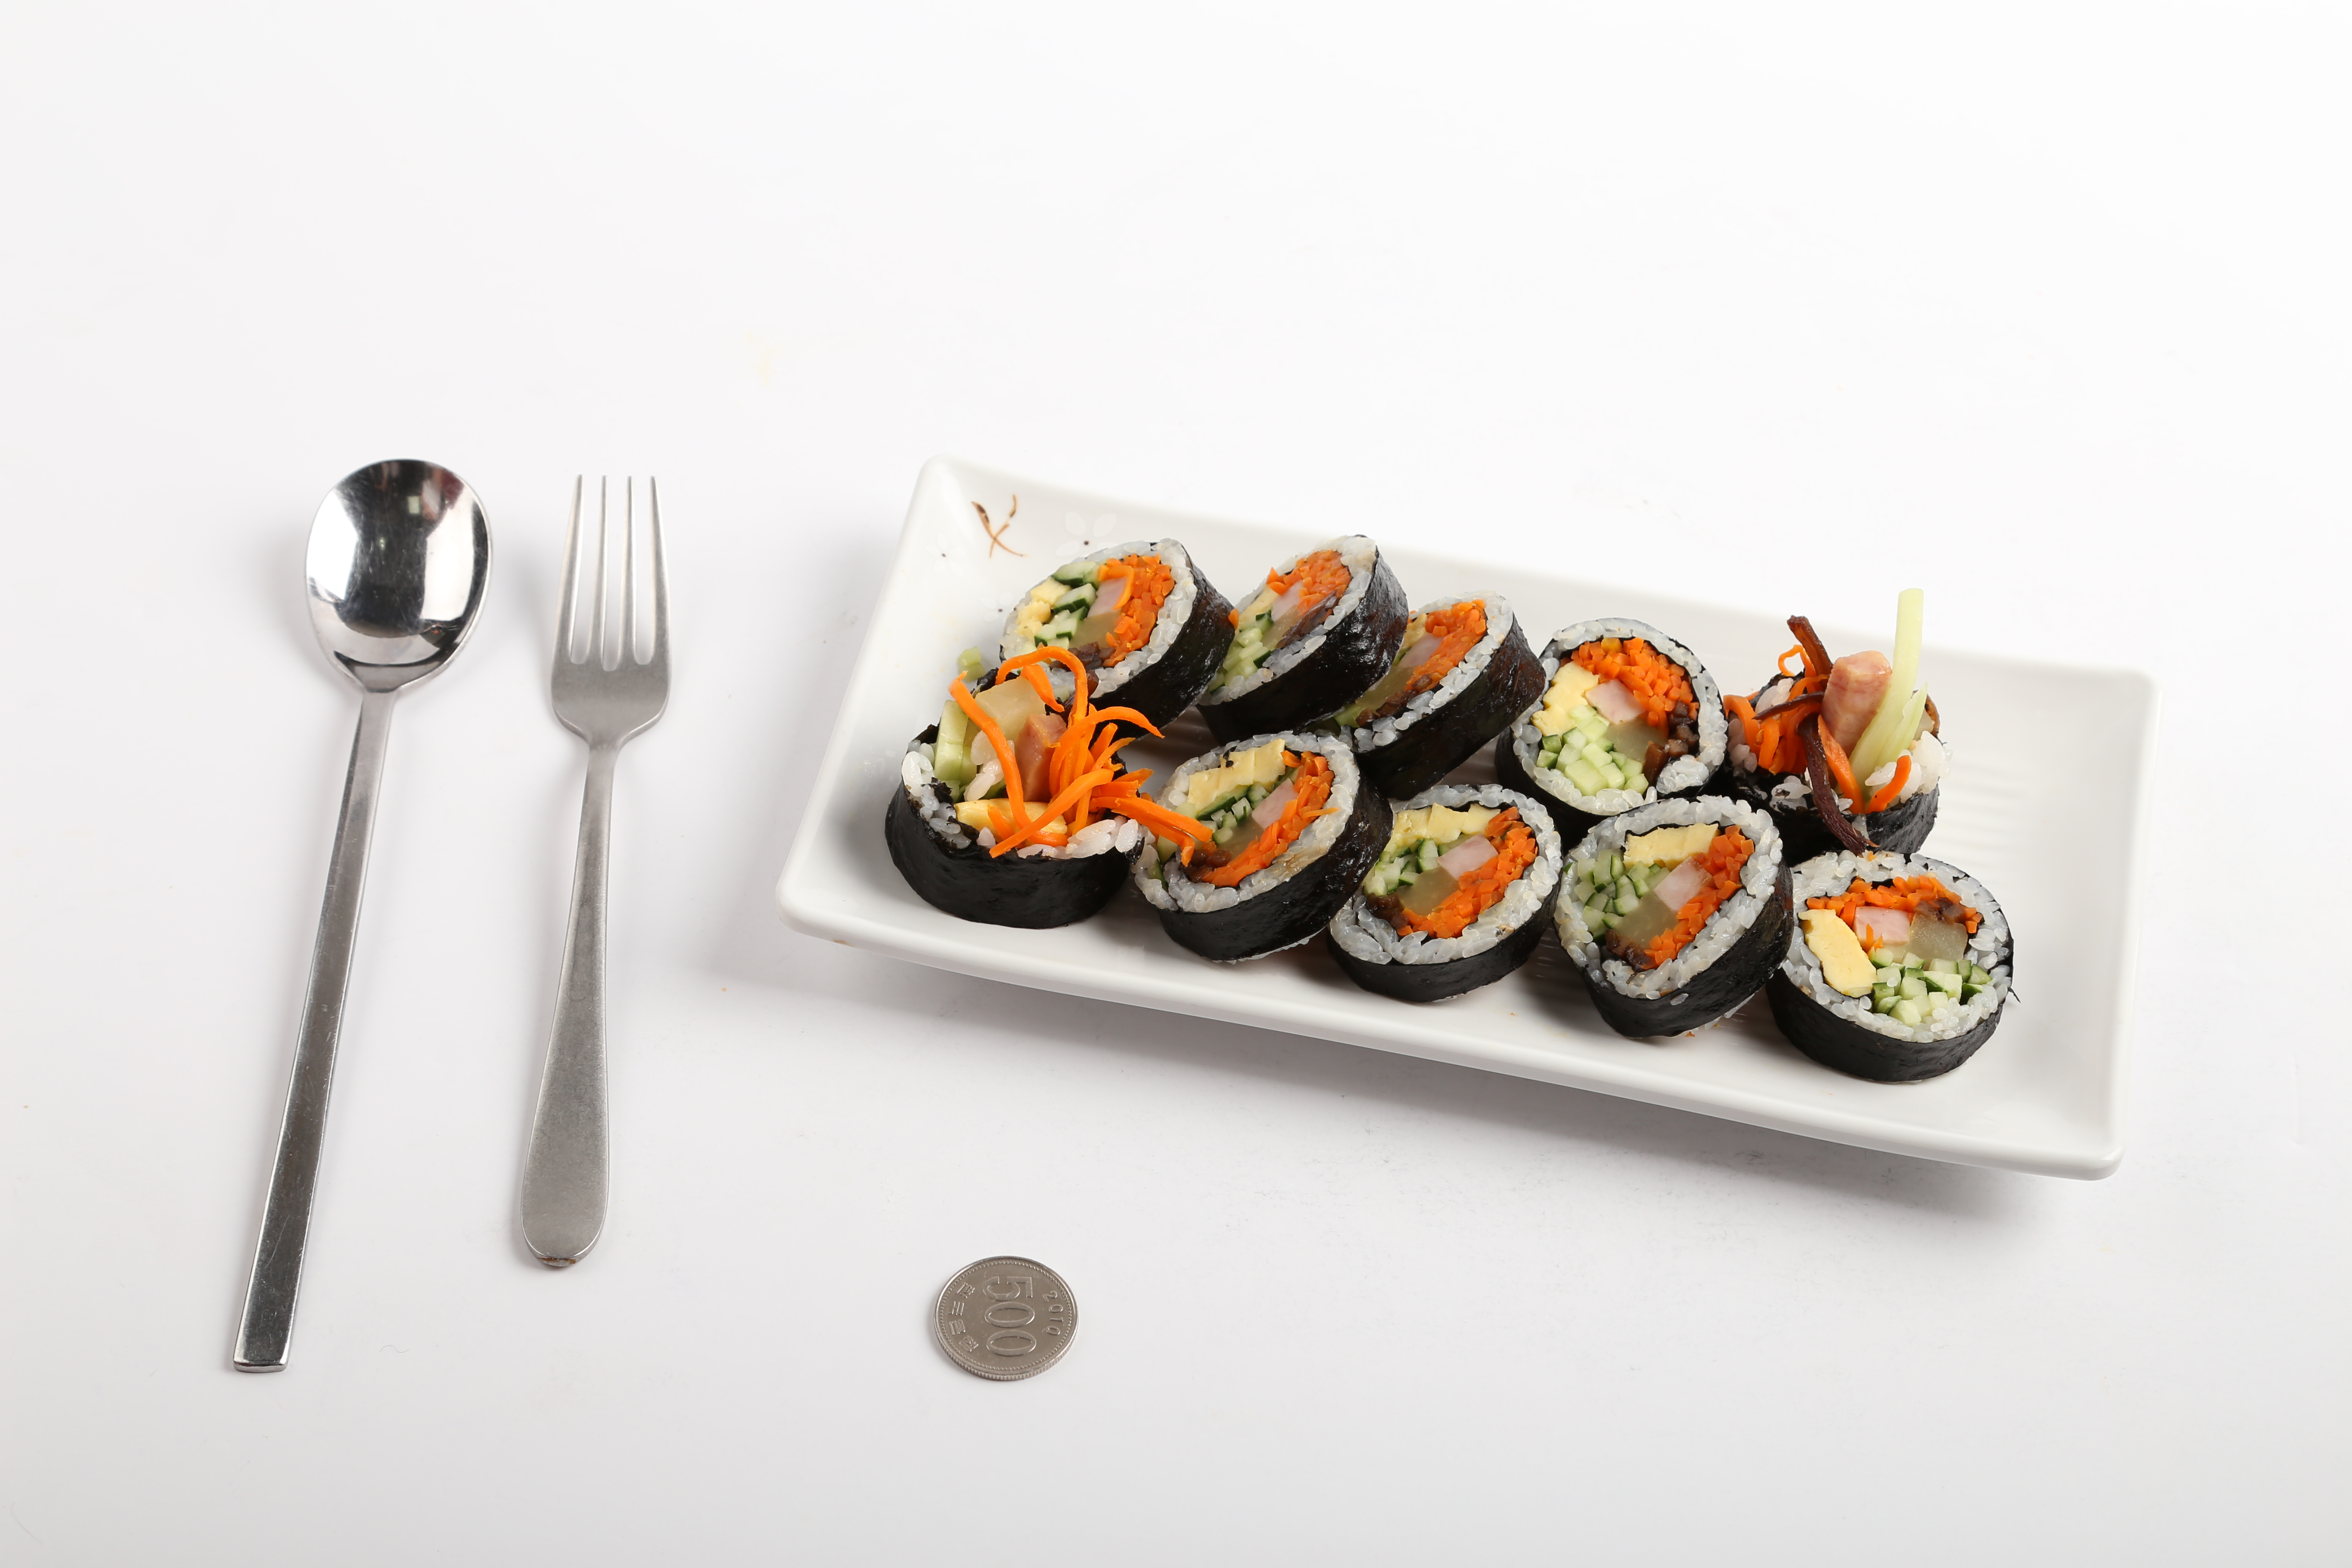dish: (772, 455, 2149, 1179)
ref_coin: (927, 1248, 1083, 1388)
ref_fork: (544, 471, 674, 782)
ref_spoon: (297, 453, 493, 738)
김밥: (882, 535, 2018, 1087)
